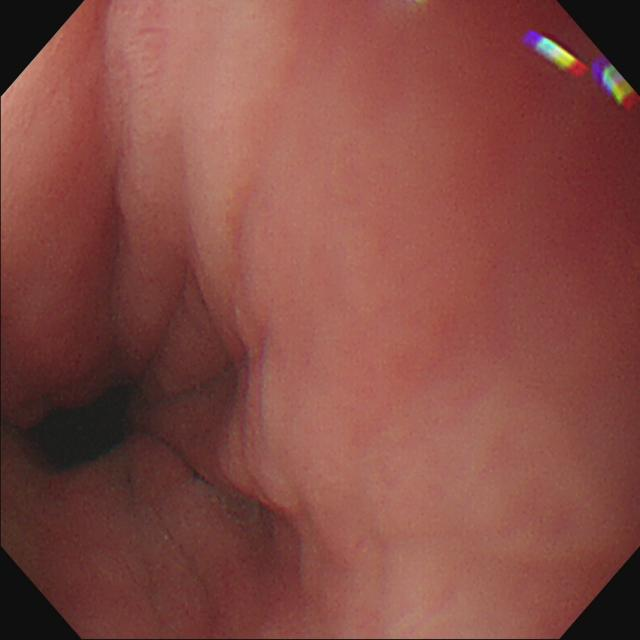E: (21, 388, 137, 468)
U: (524, 32, 587, 77), (595, 60, 640, 111)
